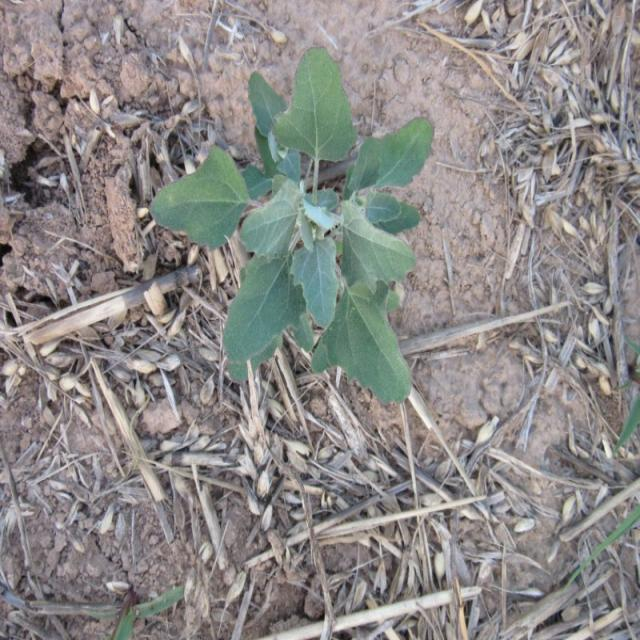ca: (153, 49, 431, 410)
